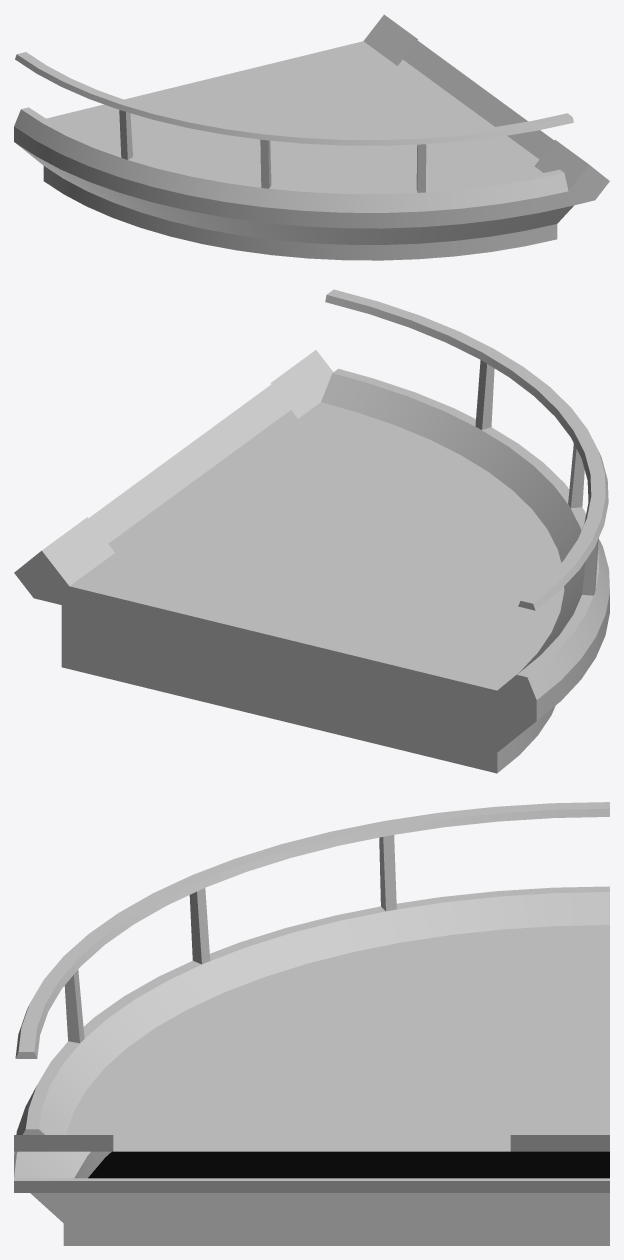
Rendered from Plateform_Angle_02.FBX.
3 views of the same model, one above another, from view 1: azimuth 30°, elevation 25°; view 2: azimuth 150°, elevation 25°; view 3: azimuth 270°, elevation 25° (orthographic). The views are drawn at different scales.
Parts seen in each view (by area): view 1: Plateform_Angle_02, Floor; view 2: Plateform_Angle_02, Floor; view 3: Floor, Plateform_Angle_02, Bottom.
Boxes of the visible parts, x1,y1,x2,y2 form: Plateform_Angle_02: (14,14,609,260); Floor: (46,41,542,190); Plateform_Angle_02: (14,289,609,773); Floor: (70,402,564,690); Floor: (66,925,609,1151); Plateform_Angle_02: (14,802,609,1245); Bottom: (88,1151,609,1178).
Bounding box in the file's own units: 6.6 × 2.15 × 6.
